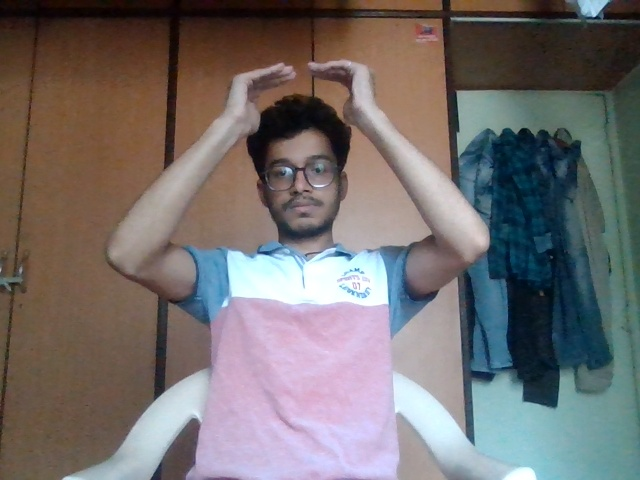afternoon: (201, 47, 417, 173)
